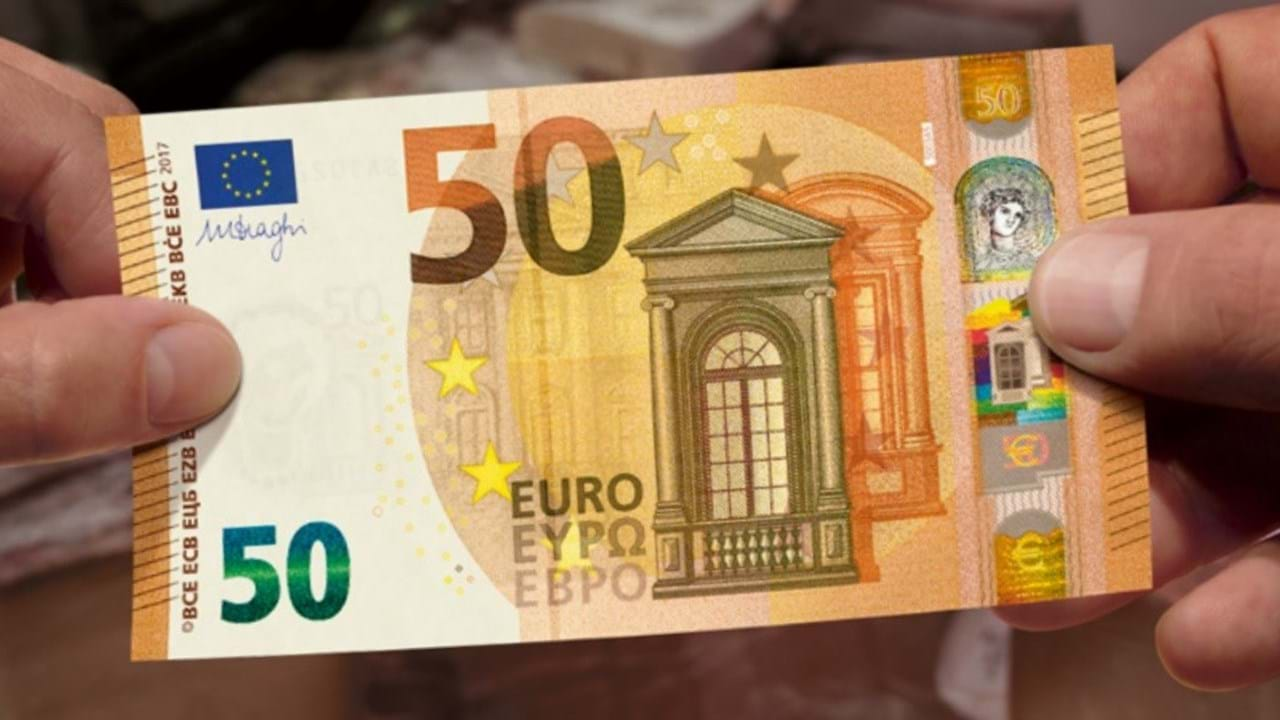Nota de 50€: (90, 103, 1137, 682)
